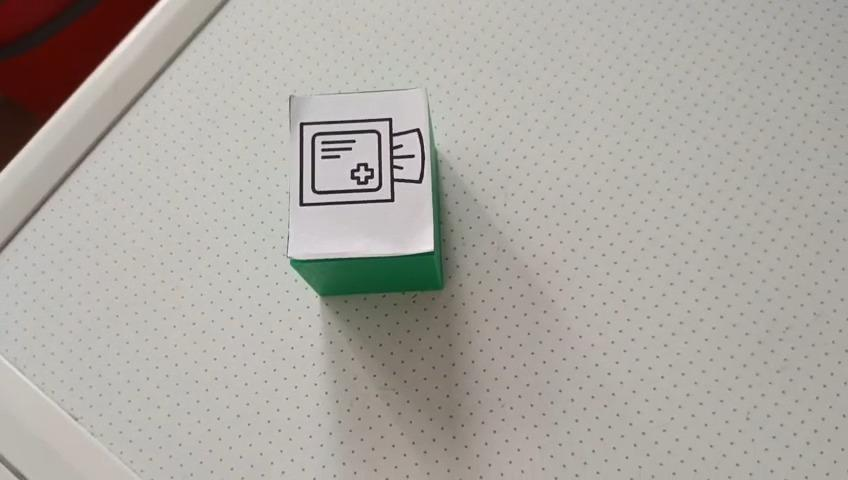Gauze: (285, 85, 444, 296)
